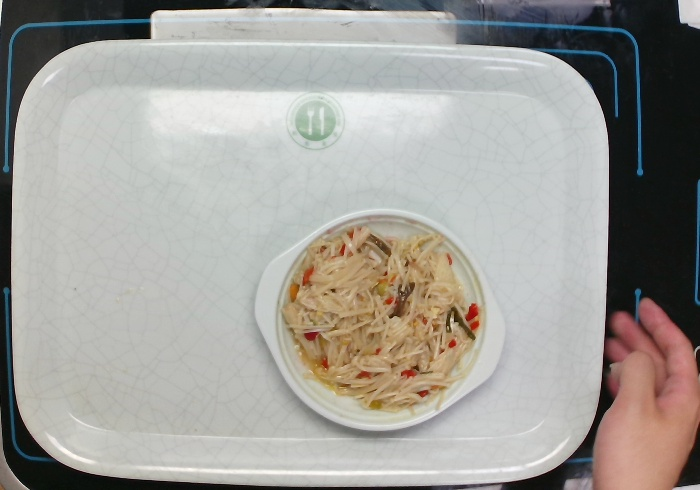JYsf-Shuang_Er_Pan: (253, 206, 507, 433)
